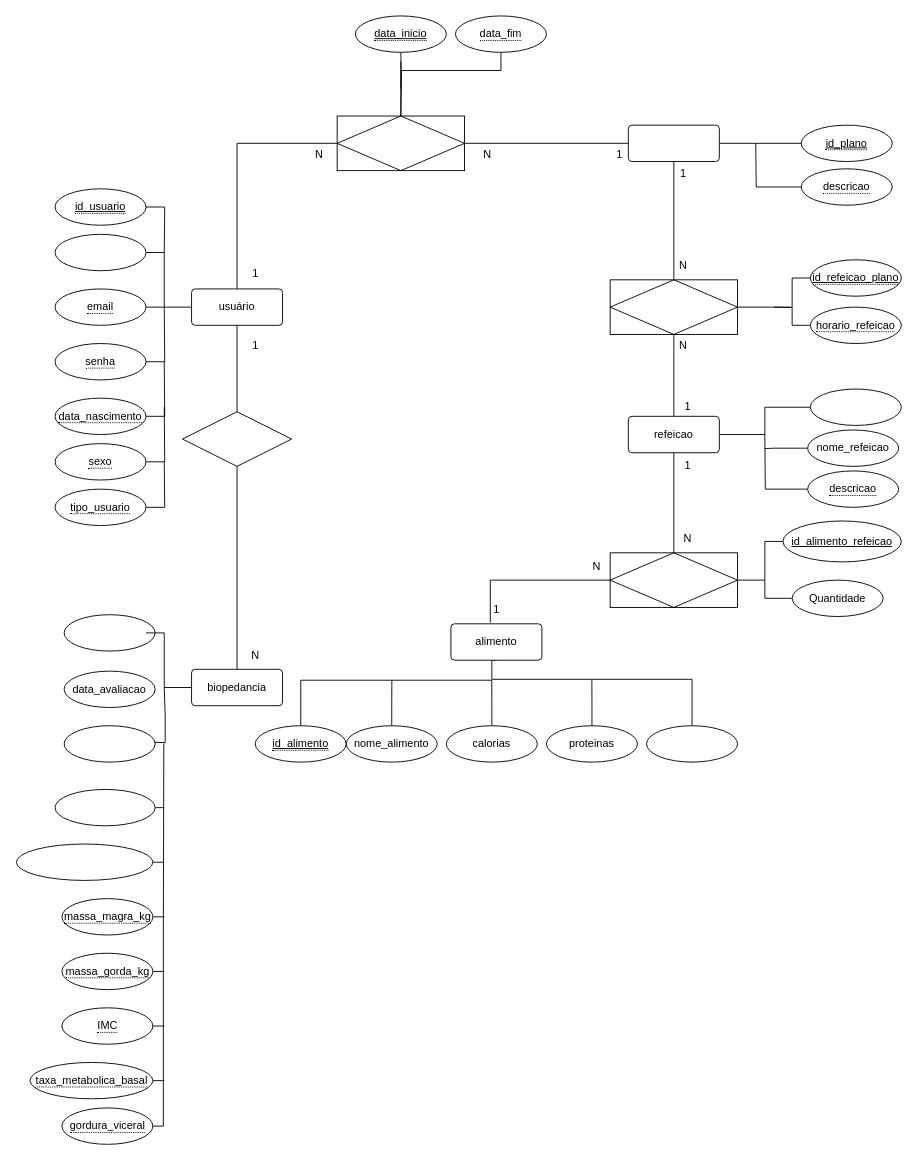
This 917x1160 diagram has some shape labels left out. The shapes that lost their labels are listed below. From the top down, each one's centre as x and y in pixels, then its label:
At (400,143): "plano_alimentar_usuario".
At (673,143): "plano_alimentar".
At (100,252): "nome".
At (673,306): "plano_alimentar_refeicao".
At (855,406): "id_refeicao".
At (237,438): "Possui".
At (673,579): "alimento_refeicao".
At (109,632): "id_biopedancia".
At (109,743): "peso".
At (692,743): "carboidratos".
At (104,807): "gordura_percentual".
At (84,861): "massa_magra_percentual".
